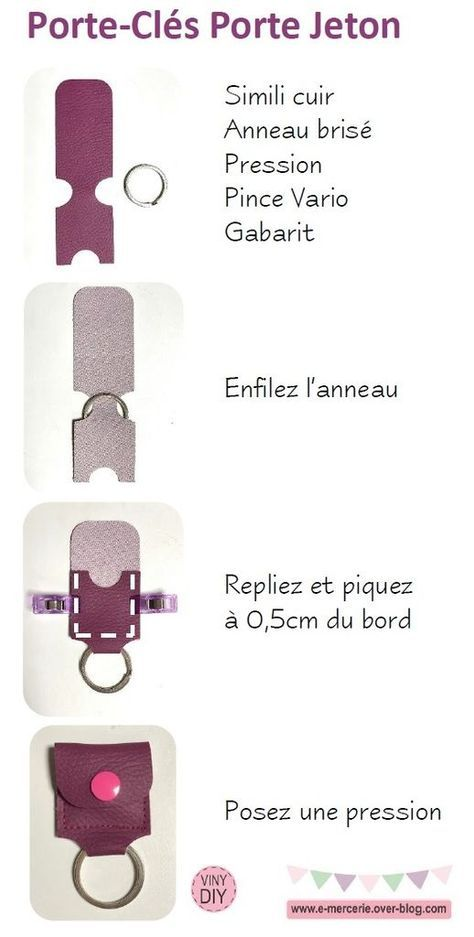cuero: (50, 80, 155, 857)
